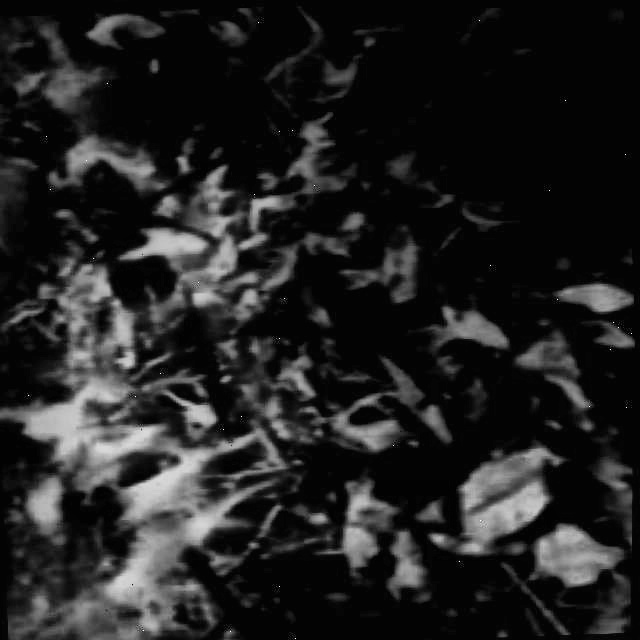Fire: (0, 120, 362, 640)
